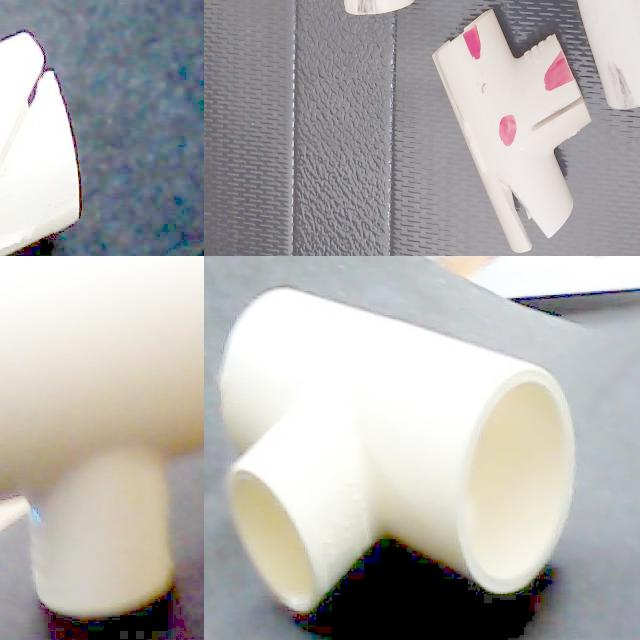Defective: (0, 45, 54, 256), (260, 132, 287, 194), (372, 202, 414, 236), (540, 53, 570, 100), (434, 0, 455, 48), (449, 98, 489, 121), (204, 94, 221, 144), (288, 145, 314, 177), (538, 179, 560, 212), (246, 80, 270, 108), (276, 237, 305, 256), (314, 36, 338, 58), (473, 0, 484, 46), (458, 145, 480, 161)
L Joint: (437, 49, 580, 220), (284, 180, 475, 256)
T Joint: (217, 289, 576, 618), (0, 256, 204, 622), (204, 0, 346, 198), (204, 36, 329, 165)
